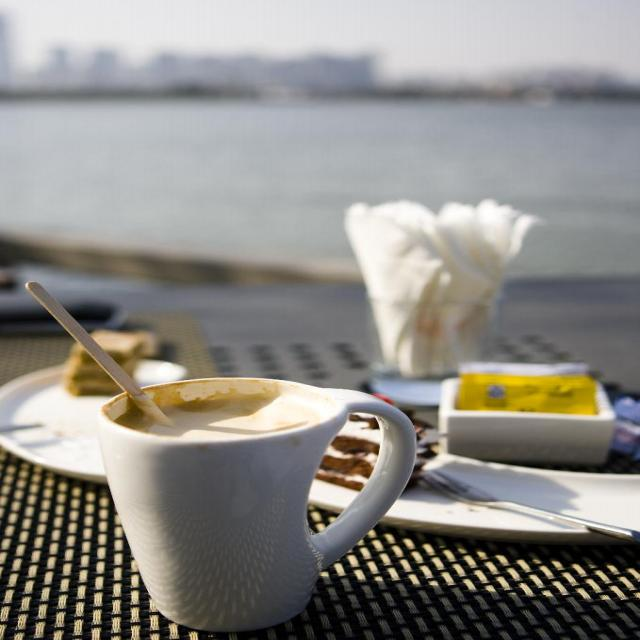Coffee: (79, 378, 414, 640), (136, 397, 327, 439)
